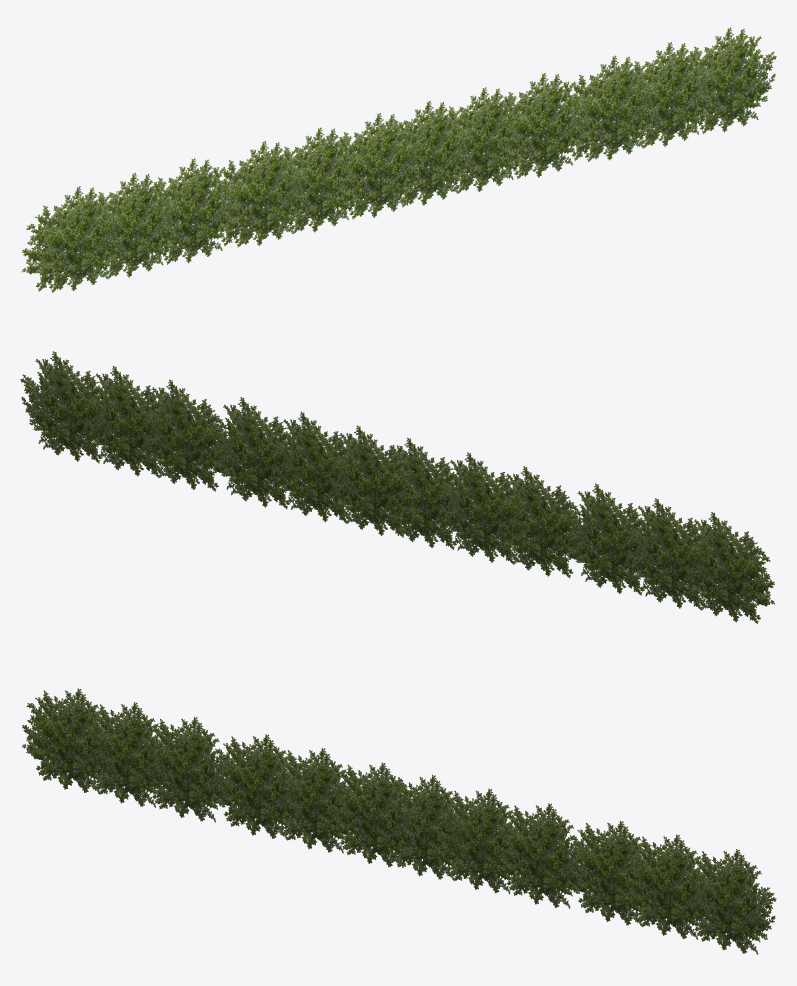
Rendered from Semak.fbx.
3 views of the same model, one above another, from view 1: azimuth 30°, elevation 25°; view 2: azimuth 150°, elevation 25°; view 3: azimuth 330°, elevation 25° (orthographic).
Parts seen in each view (by area): view 1: Semak; view 2: Semak; view 3: Semak.
Boxes of the visible parts, left/top/right/bottom form: Semak: left=22, top=27, right=776, bottom=292; Semak: left=20, top=351, right=774, bottom=623; Semak: left=22, top=688, right=776, bottom=954.
Bounding box in the file's own units: 4183 × 572 × 45.59.
